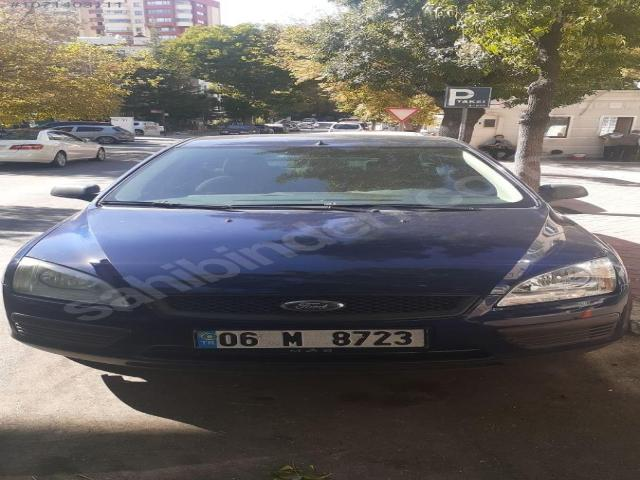plaka: (194, 330, 425, 349)
